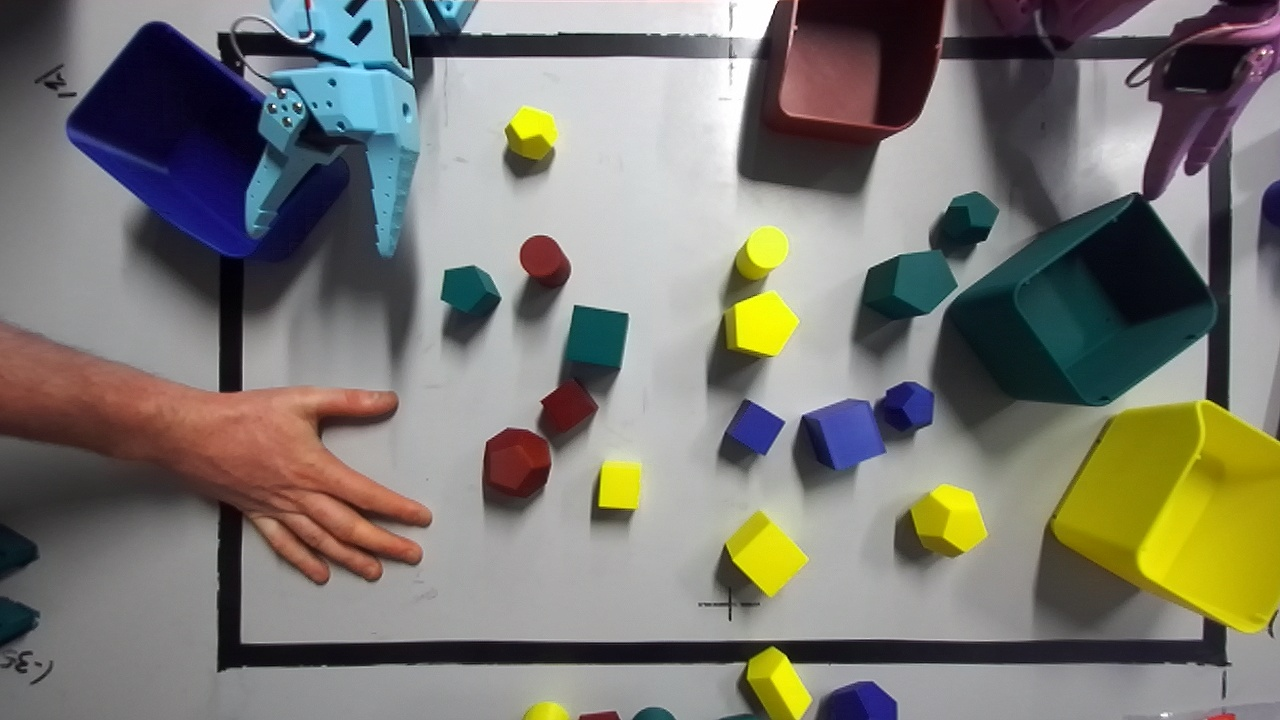bin: (66, 22, 348, 260), (947, 193, 1216, 405), (1051, 401, 1279, 632), (762, 0, 943, 143)
cube: (725, 511, 807, 596), (802, 399, 885, 470), (564, 305, 628, 369), (724, 399, 785, 454), (541, 379, 597, 432), (598, 460, 641, 510)
cylinder: (735, 226, 788, 279), (519, 235, 570, 287)
dodecahedron: (910, 484, 987, 556), (483, 428, 551, 497), (875, 382, 934, 431), (504, 106, 557, 159), (943, 192, 998, 243)
hexagonal: (862, 250, 956, 319), (724, 291, 798, 355), (441, 265, 500, 315)
